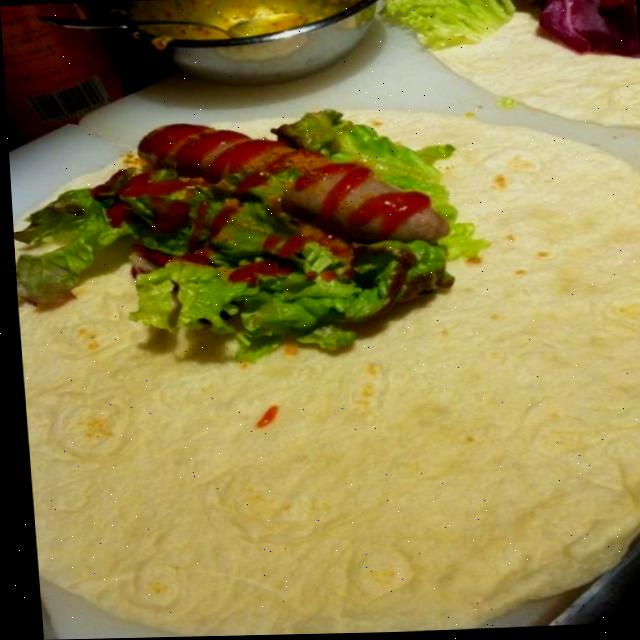面包点心: (3, 62, 640, 634)
